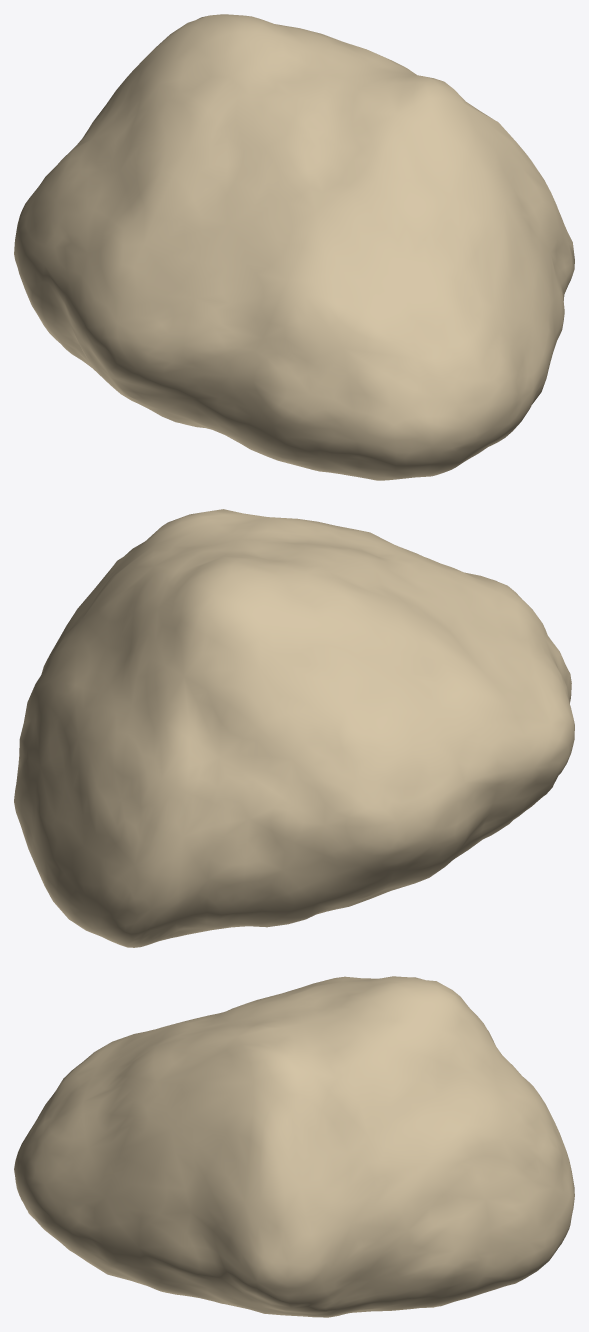
The model's file is stone.fbx.
3 renders of one model, top to bottom at view 1: azimuth 30°, elevation 25°; view 2: azimuth 150°, elevation 25°; view 3: azimuth 270°, elevation 25°, orthographic. The views are drawn at different scales.
Parts seen in each view (by area): view 1: Icosphere.001; view 2: Icosphere.001; view 3: Icosphere.001.
Boxes of the visible parts, x1,y1,x2,y2 form: Icosphere.001: (14, 14, 574, 480); Icosphere.001: (14, 509, 574, 947); Icosphere.001: (14, 976, 574, 1317).
Bounding box in the file's own units: 217 × 142 × 260.
